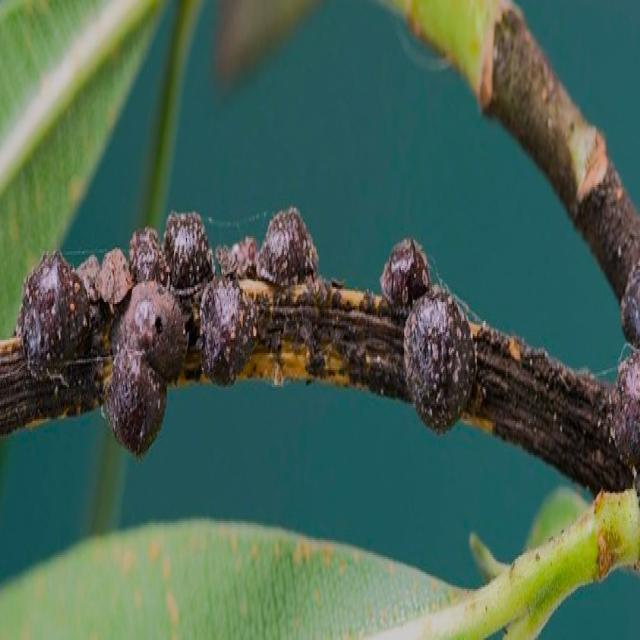Black Scale: (20, 208, 317, 455), (380, 238, 484, 432)
